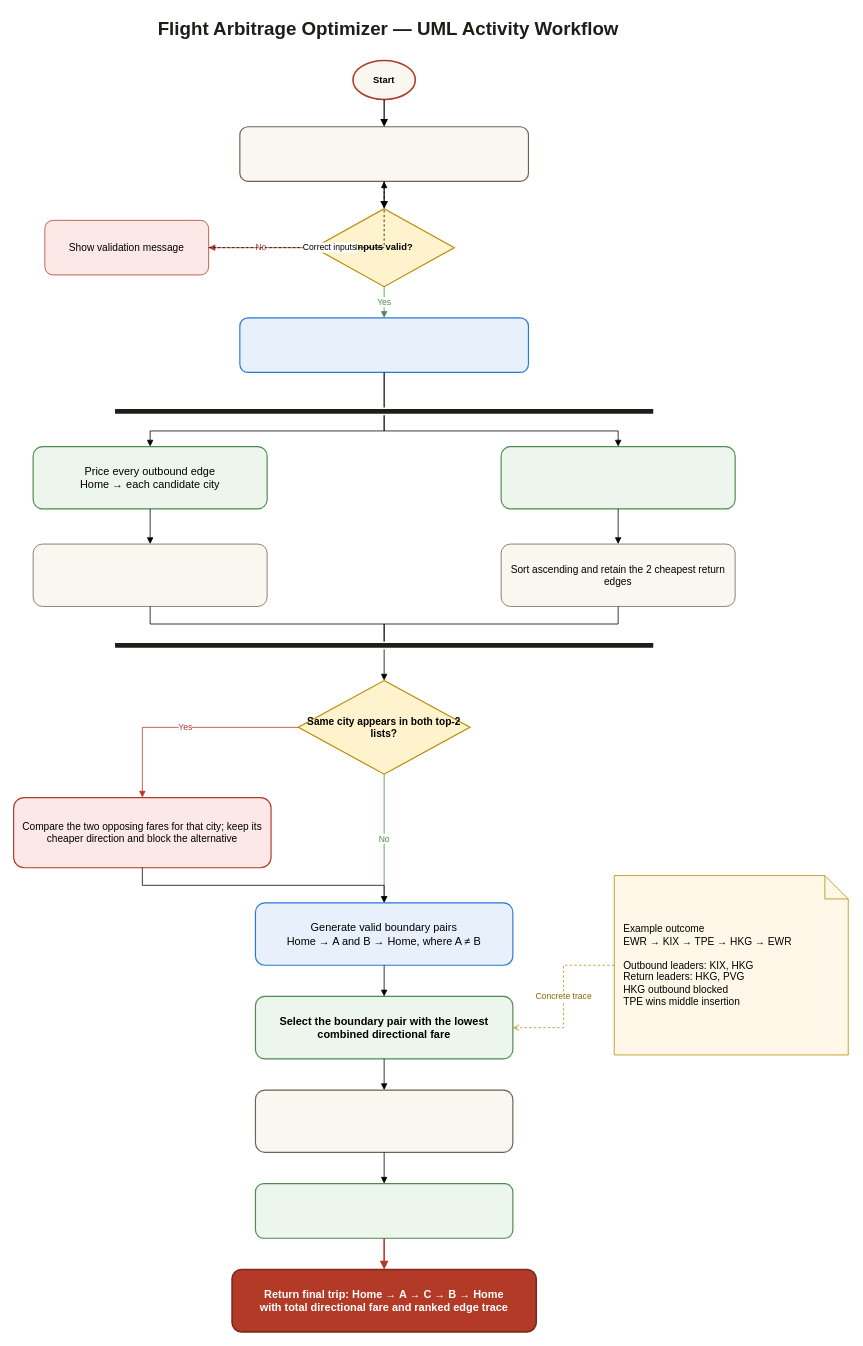
This 863x1346 diagram has some shape labels left out. The centre of each missing label's shape, as x and y in pixels:
"Choose the cheapest third-city insertion" belongs at pixel 384 1210.
"Enter trip dates, home airport, and at least 3 candidate cities" belongs at pixel 384 154.
"For each remaining city C, calculate insertion cost: A → C + C → B" belongs at pixel 384 1121.
"Load directional fare snapshot for selected date window" belongs at pixel 384 345.
"Price every return edge Each candidate city → Home" belongs at pixel 617 477.
"Sort ascending and retain the 2 cheapest outbound edges" belongs at pixel 149 574.
